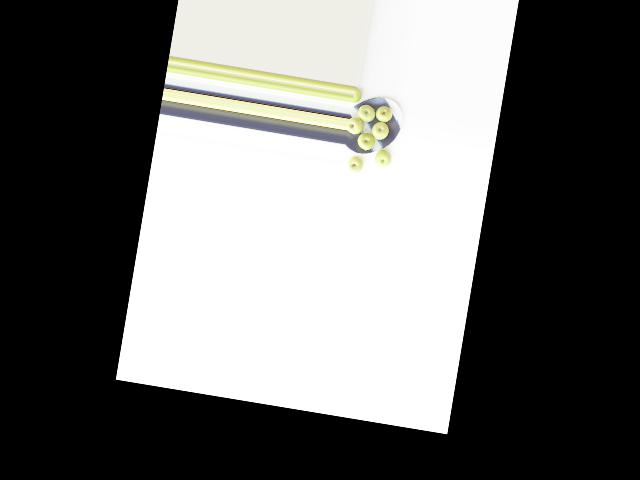apple: (374, 105, 395, 124)
